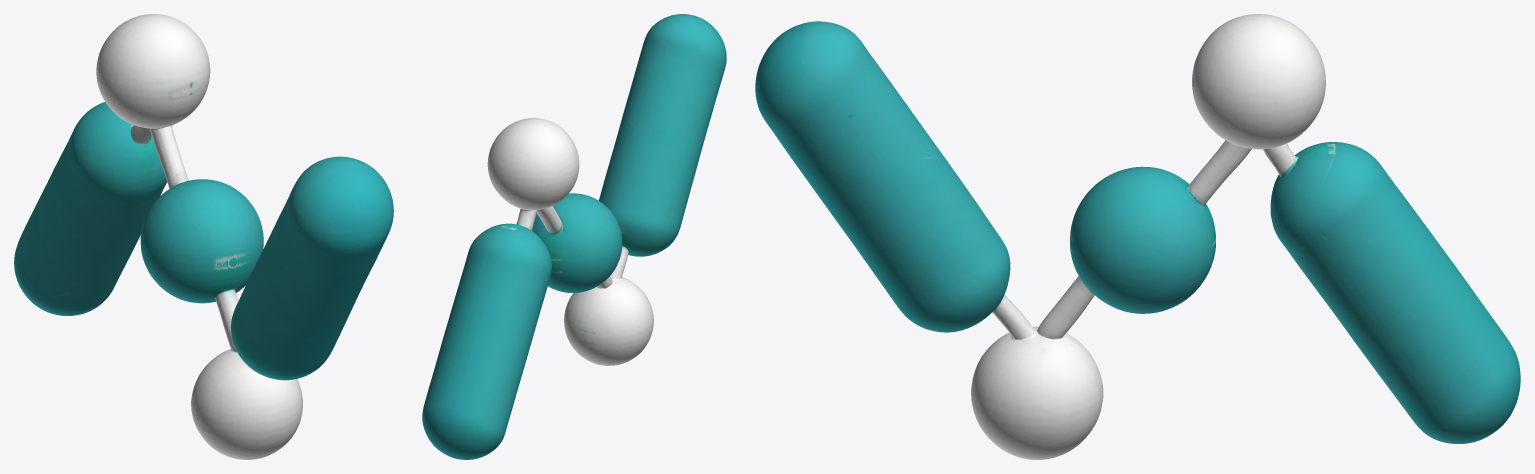
The model's file is Molecular_Network_Des_0429142419_texture.glb.
3 views of the same model, side by side, from view 1: azimuth 30°, elevation 25°; view 2: azimuth 150°, elevation 25°; view 3: azimuth 270°, elevation 25° (orthographic). The views are drawn at different scales.
Size of the model in its own units: 0.381 by 1.25 by 2.
1 material, 1 textured.
